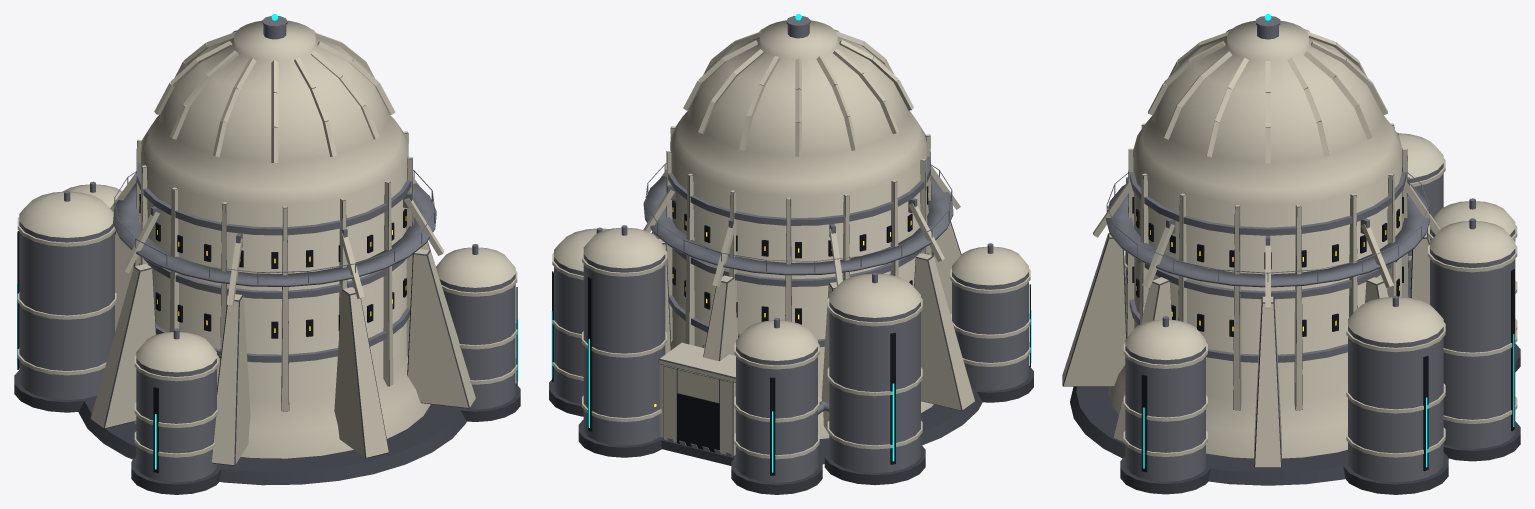
The model's file is pump_citadel.glb.
3 renders of one model, left to right at view 1: azimuth 30°, elevation 25°; view 2: azimuth 150°, elevation 25°; view 3: azimuth 270°, elevation 25°, orthographic. The views are drawn at different scales.
Visible parts, largest first — view 1: pump_citadel; view 2: pump_citadel; view 3: pump_citadel.
Part boxes in pixels (<box>): pump_citadel: <box>14,14,520,494</box>; pump_citadel: <box>549,14,1033,494</box>; pump_citadel: <box>1062,14,1520,494</box>.
Size of the model in its own units: 34.4 by 33.48 by 35.82.
